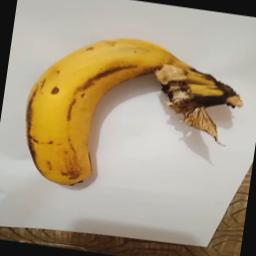Banana Unripe: (14, 25, 246, 210)
